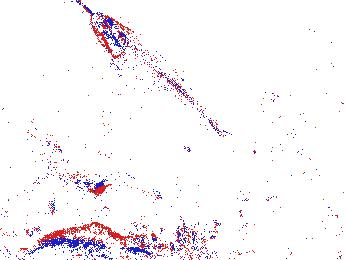glassfish: (90, 10, 243, 160)
siberian prawn: (18, 125, 163, 199), (45, 221, 176, 260)
